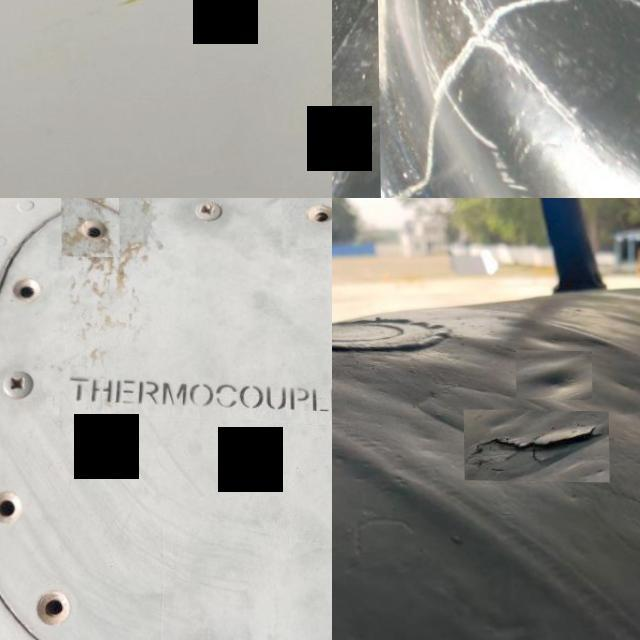Crack: (380, 0, 640, 198), (463, 408, 609, 481)
Dent: (516, 349, 592, 399)
Missing_Fastener: (14, 565, 86, 640), (0, 257, 54, 322), (60, 198, 119, 256), (0, 470, 44, 544), (281, 198, 332, 247)
